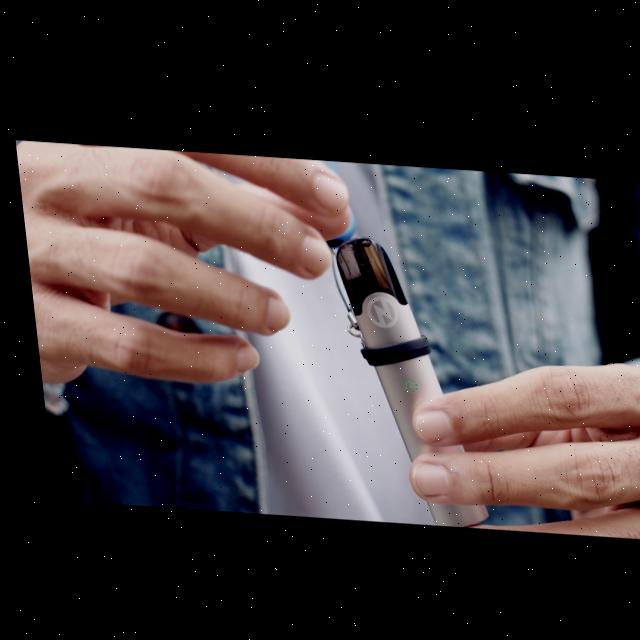vape: (326, 231, 481, 524)
